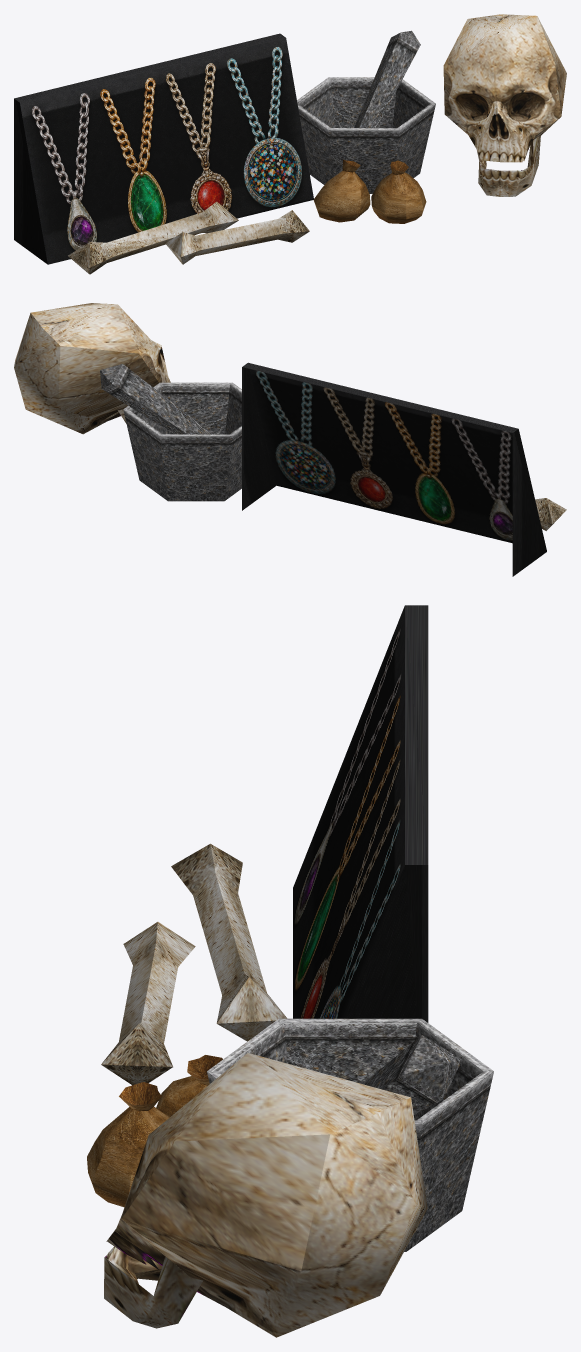
File: mm9_deco_shelfitem02.glb
3 renders of one model, top to bottom at view 1: azimuth 30°, elevation 25°; view 2: azimuth 150°, elevation 25°; view 3: azimuth 270°, elevation 25°, orthographic. The views are drawn at different scales.
Visible parts, largest first — view 1: Shelfitem02; view 2: Shelfitem02; view 3: Shelfitem02.
Part boxes in pixels (x1=…): Shelfitem02: x1=14, y1=14, x2=566, y2=274; Shelfitem02: x1=14, y1=303, x2=566, y2=576; Shelfitem02: x1=87, y1=605, x2=493, y2=1337.
Size of the model in its own units: 1.15 by 0.3045 by 0.3904.
2 materials, 2 textured.
